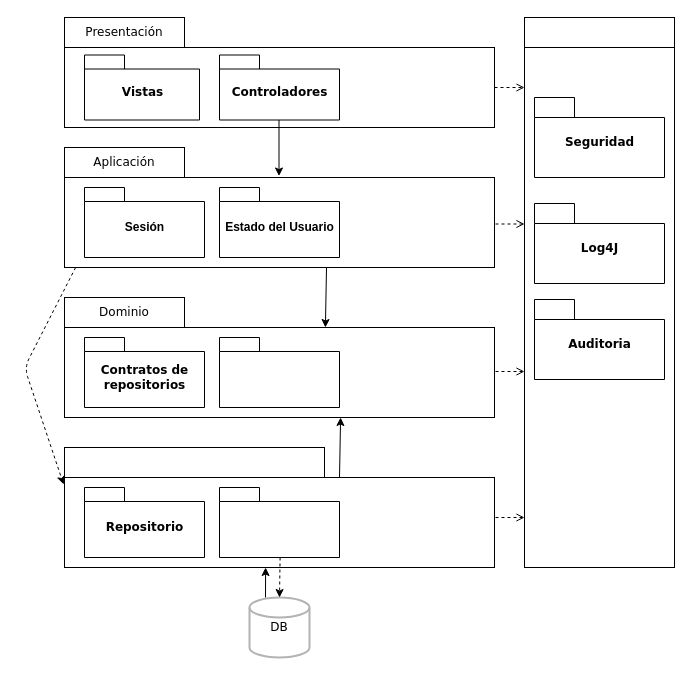
This 692x676 diagram has some shape labels left out. The shapes that lost their labels are listed below. From the top down, each one's box as (x1, y1, x2, y2) in pixels, then its label:
(524, 16, 674, 48): Infraestructura transversal
(218, 336, 340, 408): Entidades del dominio
(64, 446, 324, 478): Infraestructura de Persistencia de Datos
(218, 486, 340, 558): Persistencia
